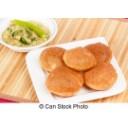poori: (47, 68, 83, 97), (84, 64, 117, 89), (63, 47, 97, 71), (86, 42, 114, 66), (41, 47, 67, 72)
